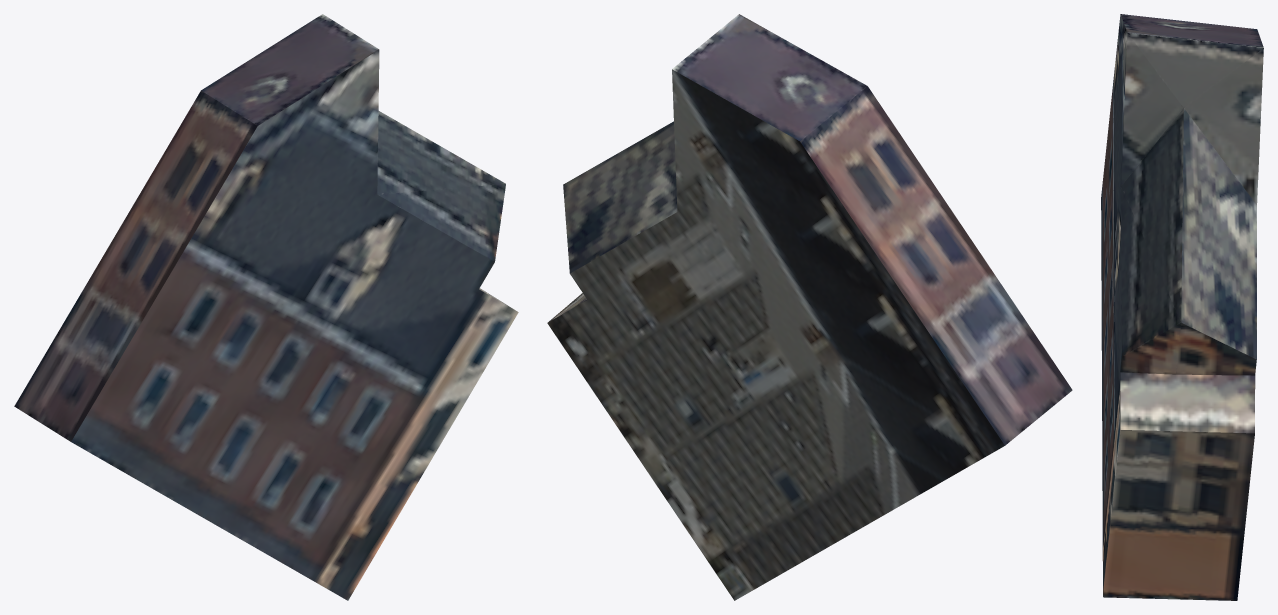
3 views of the same model, side by side, from view 1: azimuth 30°, elevation 25°; view 2: azimuth 150°, elevation 25°; view 3: azimuth 270°, elevation 25° (orthographic). The views are drawn at different scales.
Visible parts, largest first — view 1: BAG_0599100000671734; view 2: BAG_0599100000671734; view 3: BAG_0599100000671734 (×4).
Part boxes in pixels (left/top/right/bottom): BAG_0599100000671734: left=14, top=14, right=518, bottom=600; BAG_0599100000671734: left=547, top=14, right=1072, bottom=600; BAG_0599100000671734 (×4): left=1101, top=14, right=1263, bottom=600.
Size of the model in its own units: 20.31 by 22.12 by 5.51.
Materials: 4 (4 with a texture image).
